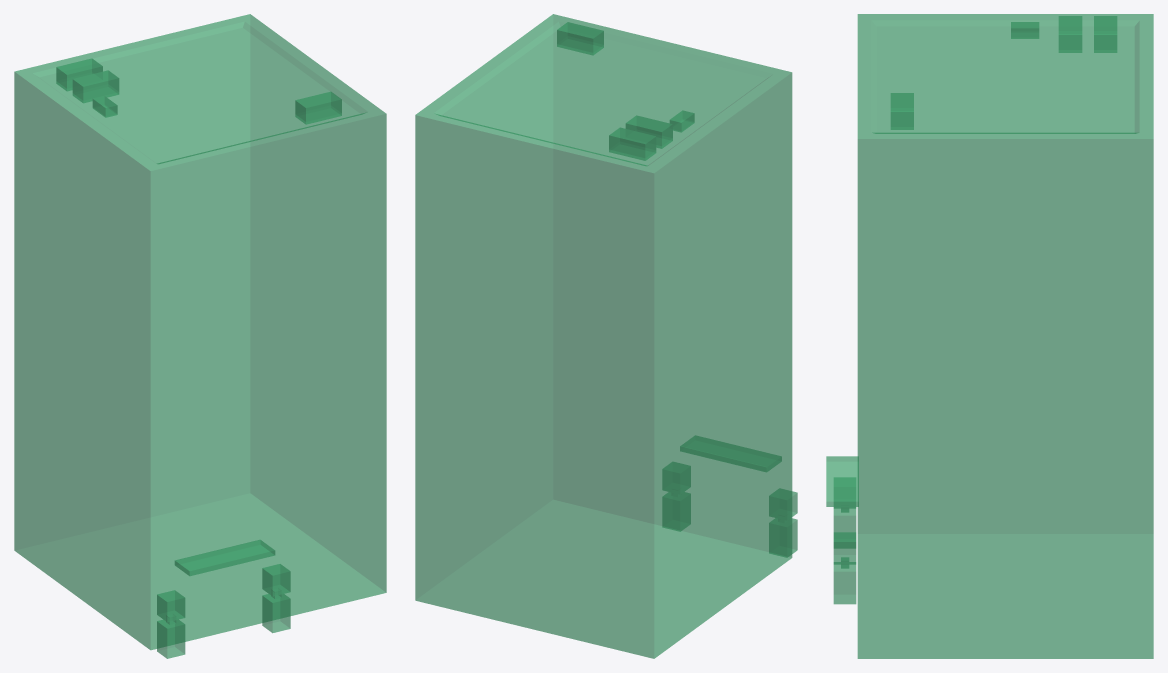
File: SA_Bld_OfficeBlue_03_Collider.fbx
3 views of the same model, side by side, from view 1: azimuth 30°, elevation 25°; view 2: azimuth 150°, elevation 25°; view 3: azimuth 270°, elevation 25° (orthographic). The views are drawn at different scales.
Parts seen in each view (by area): view 1: SA_Bld_OfficeBlue_03_Collider; view 2: SA_Bld_OfficeBlue_03_Collider; view 3: SA_Bld_OfficeBlue_03_Collider.
Boxes of the visible parts, left/top/right/bottom form: SA_Bld_OfficeBlue_03_Collider: left=14, top=14, right=386, bottom=658; SA_Bld_OfficeBlue_03_Collider: left=415, top=14, right=797, bottom=658; SA_Bld_OfficeBlue_03_Collider: left=826, top=14, right=1153, bottom=658.
Size of the model in its own units: 13.72 by 27.31 by 15.18.
